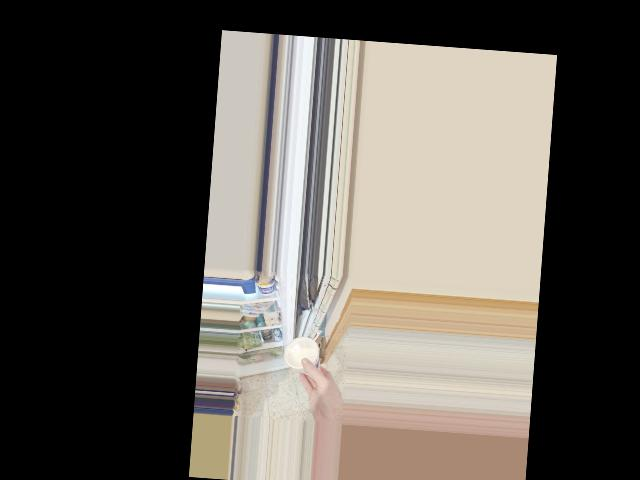cotage: (286, 332, 325, 371)
